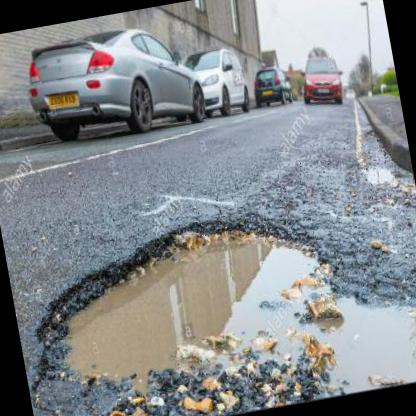pothole: (17, 191, 356, 416), (285, 266, 416, 401), (360, 158, 394, 188)
